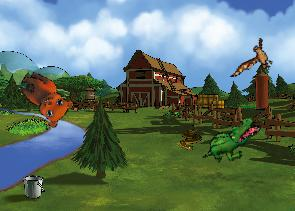bear: (8, 67, 78, 131)
crocodile: (200, 106, 263, 175)
eagle: (230, 32, 279, 88)
